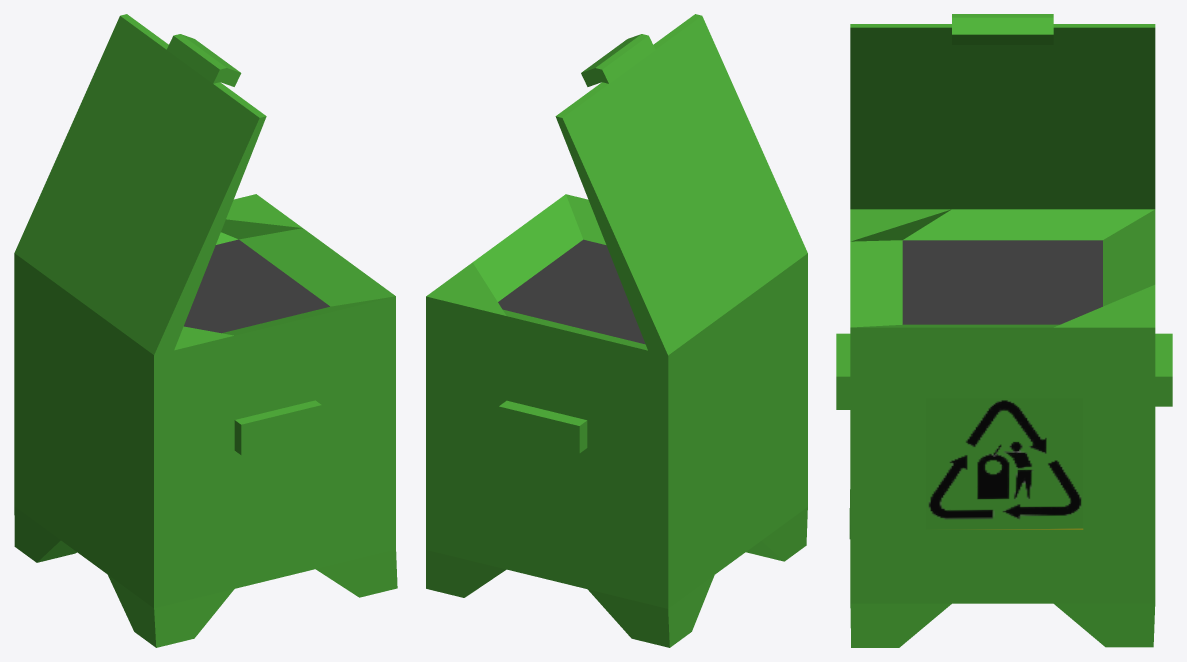
The model's file is boteVidrio.obj.
The picture shows the model from 3 angles, left to right: view 1: azimuth 30°, elevation 25°; view 2: azimuth 150°, elevation 25°; view 3: azimuth 270°, elevation 25°; orthographic projection. The views are drawn at different scales.
Visible parts, largest first — view 1: Cube_Cube.005; view 2: Cube_Cube.005; view 3: Cube_Cube.005.
Boxes of the visible parts, x1,y1,x2,y2 form: Cube_Cube.005: (14,14,397,647); Cube_Cube.005: (426,14,807,647); Cube_Cube.005: (836,14,1172,647).
Bounding box in the file's own units: 2.02 × 4.08 × 2.21.
